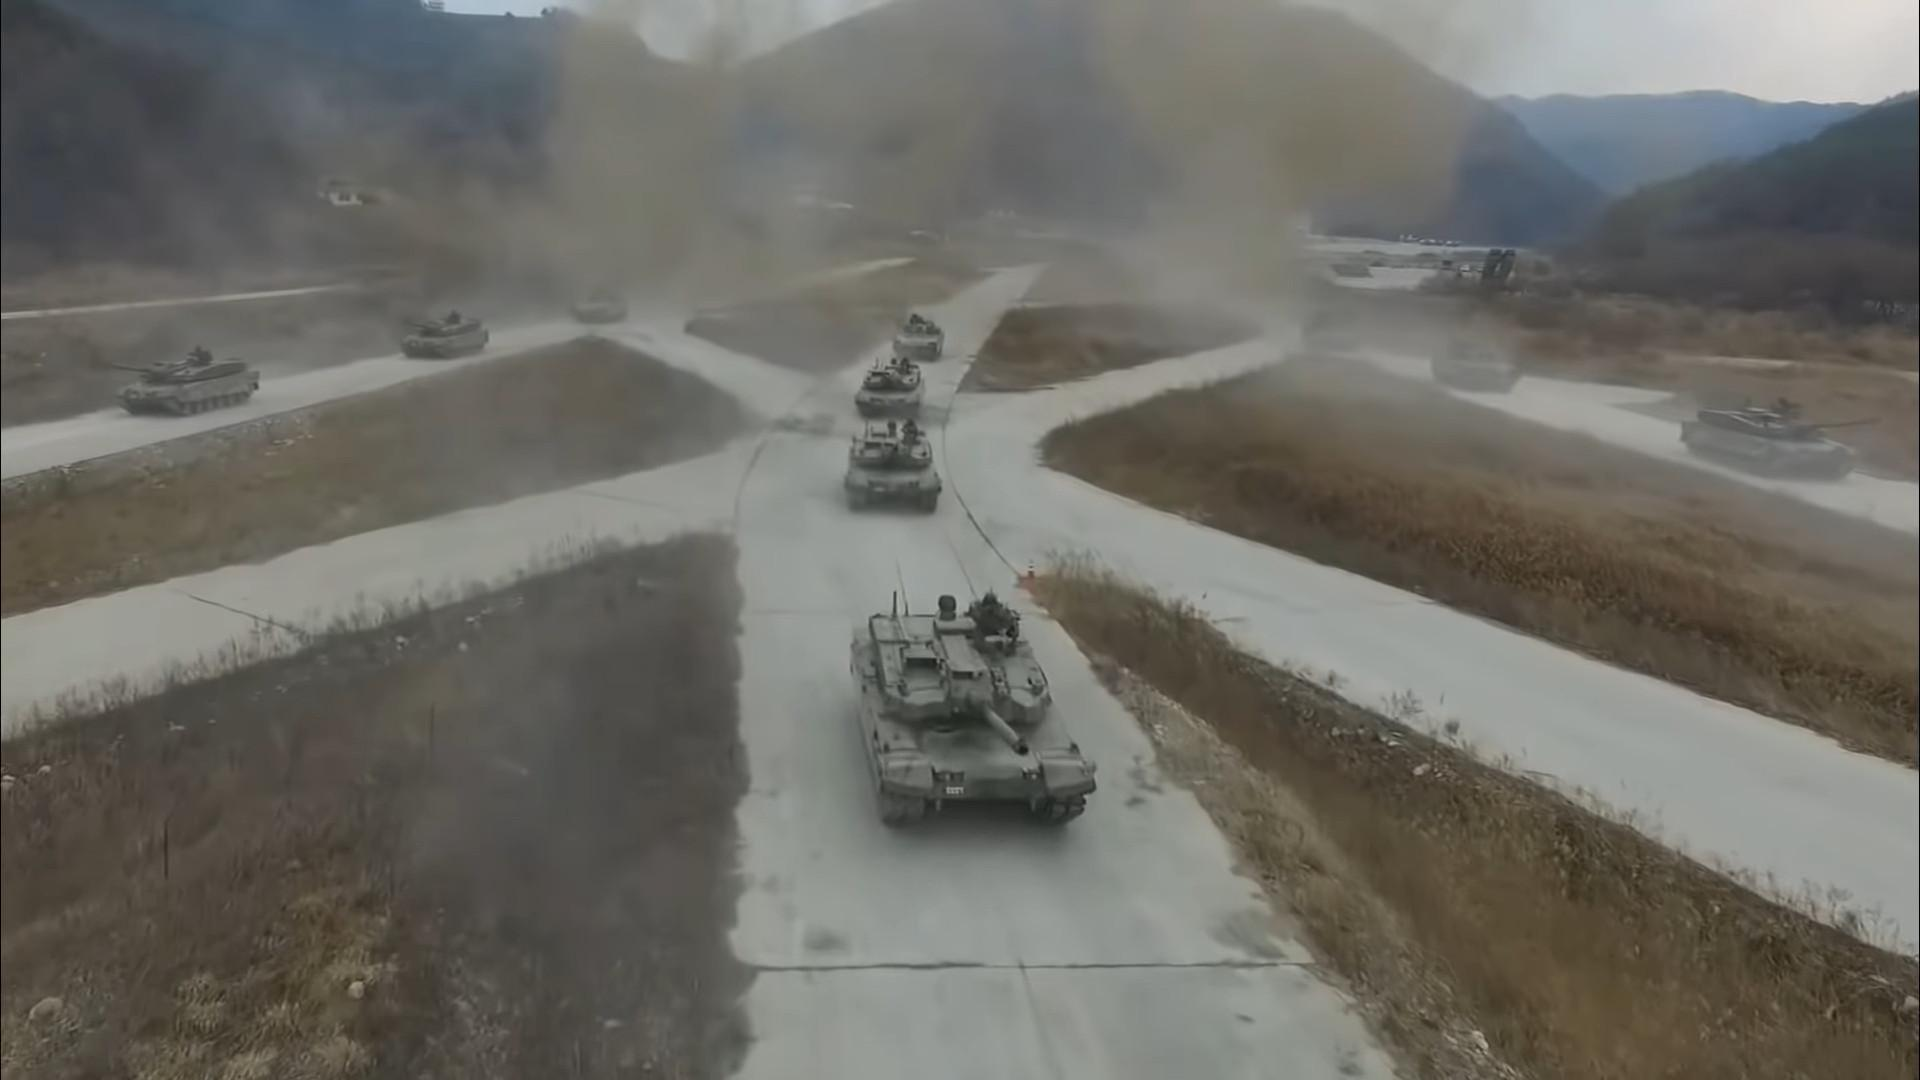tank: (846, 598, 1099, 825), (1682, 407, 1879, 481), (111, 349, 261, 417), (845, 429, 939, 513), (1432, 345, 1520, 393), (855, 364, 925, 419), (401, 316, 486, 358), (894, 321, 945, 361)
